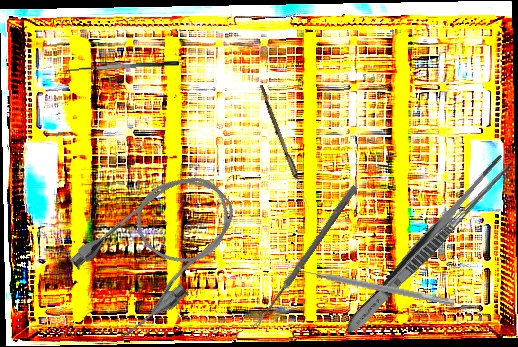Cannula: (59, 153, 259, 346)
Dressing Forceps: (340, 151, 513, 340)
Spatula Surgical: (295, 261, 456, 307), (63, 59, 180, 80)
Surgical Spoon: (251, 184, 358, 332), (256, 84, 313, 210)
